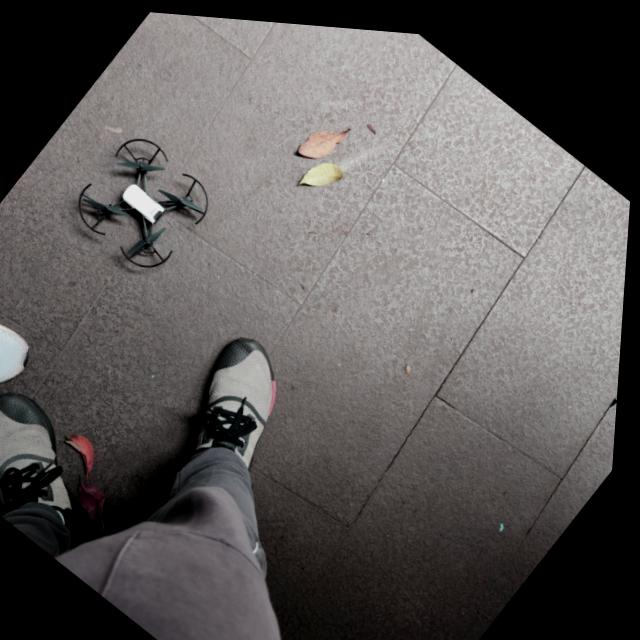drone: (81, 136, 210, 265)
